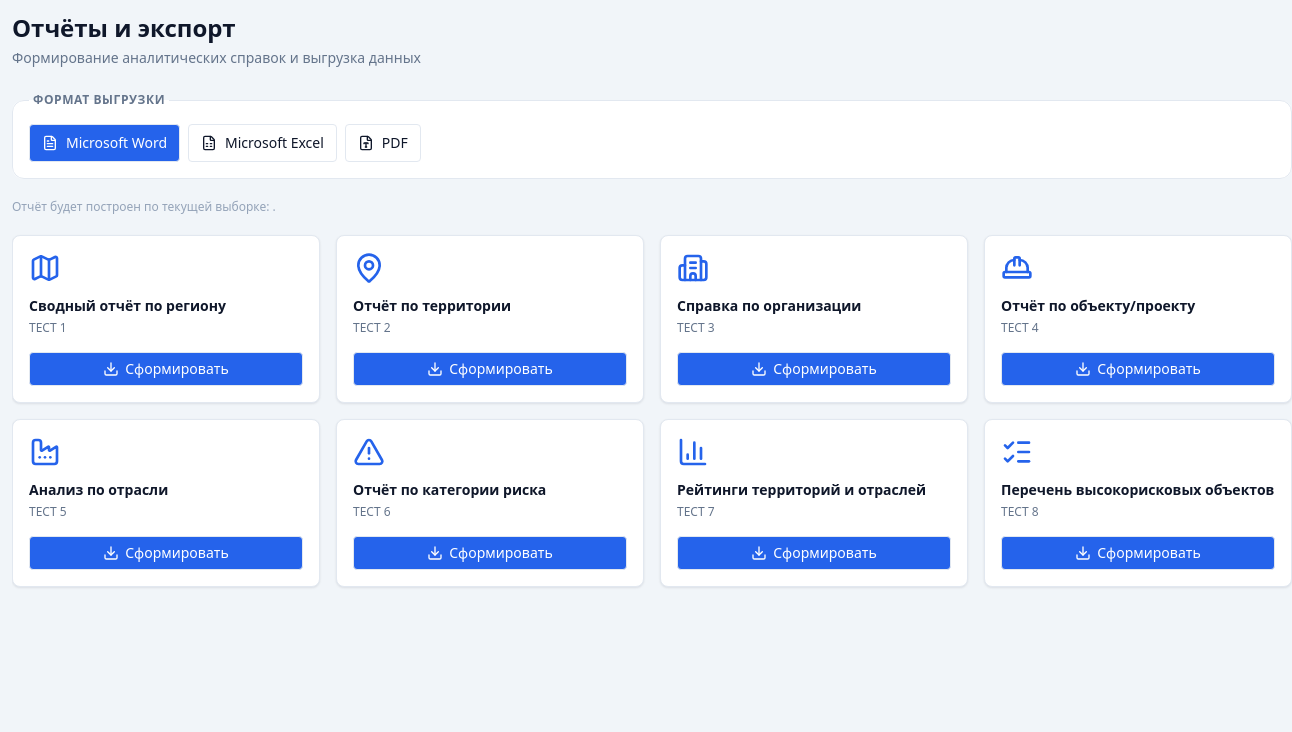
Test: Экран «Отчёты и экспорт» › отказ сервера показывает текстом, а не молчанием
Check: the heading "Анализ по отрасли" is shown, box [29,480,168,499]
Click the button "Сформировать" below "ТЕСТ 5".
click(166, 553)  # box [29,536,303,570]
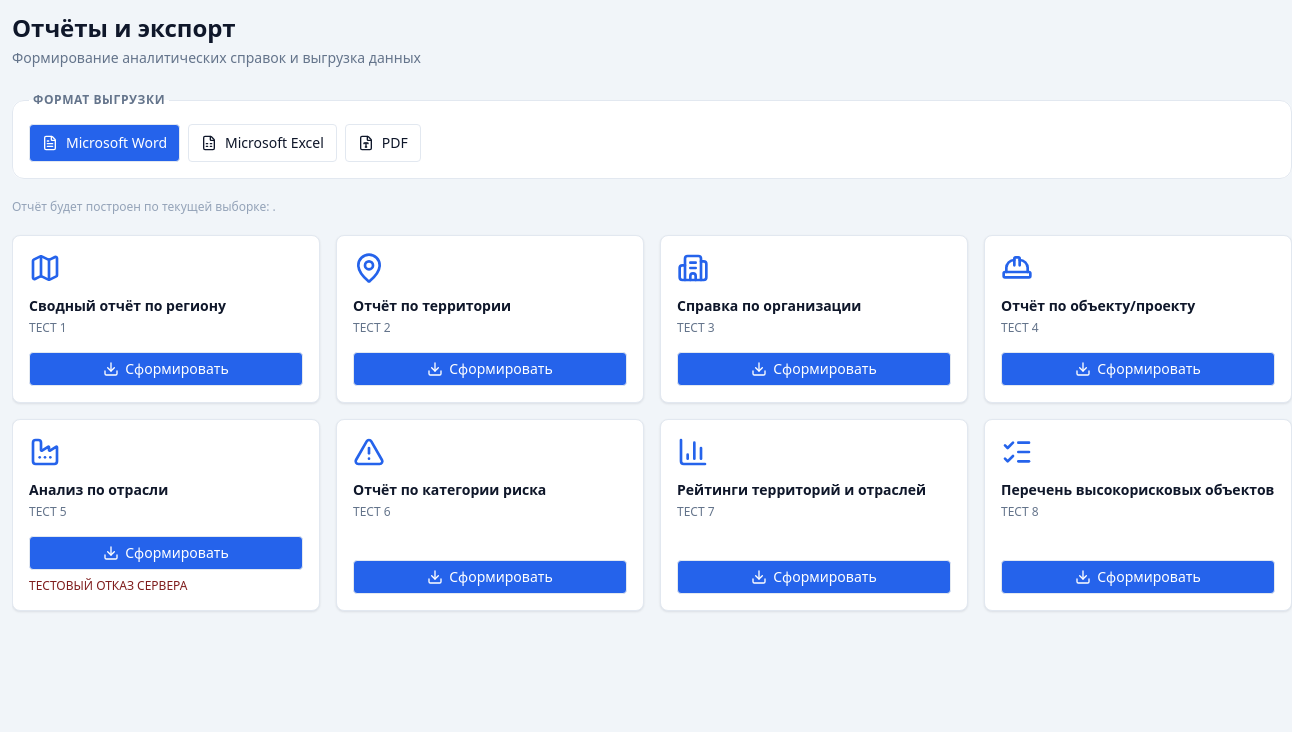
Check: the text "ТЕСТОВЫЙ ОТКАЗ СЕРВЕРА" is shown, box [29,577,187,594]
